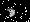person: (7, 3, 17, 17)
